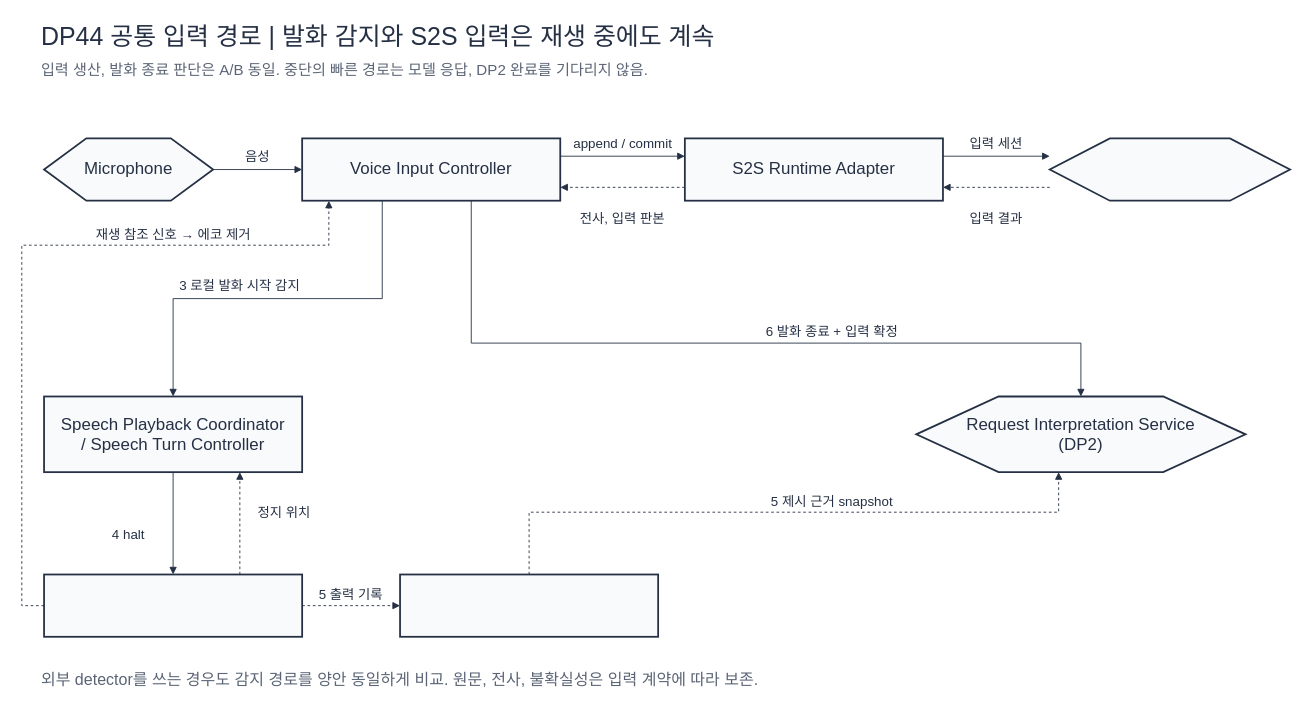
Some shapes in this 1307 by 706 pixel diagram are drawn without their labels. Here are the shapes that lost their labels. From the top down, the box of each, then its label:
(1048, 137, 1290, 201): S2S Runtime
(43, 573, 303, 637): Audio Playout
(399, 573, 659, 637): Delivery History
